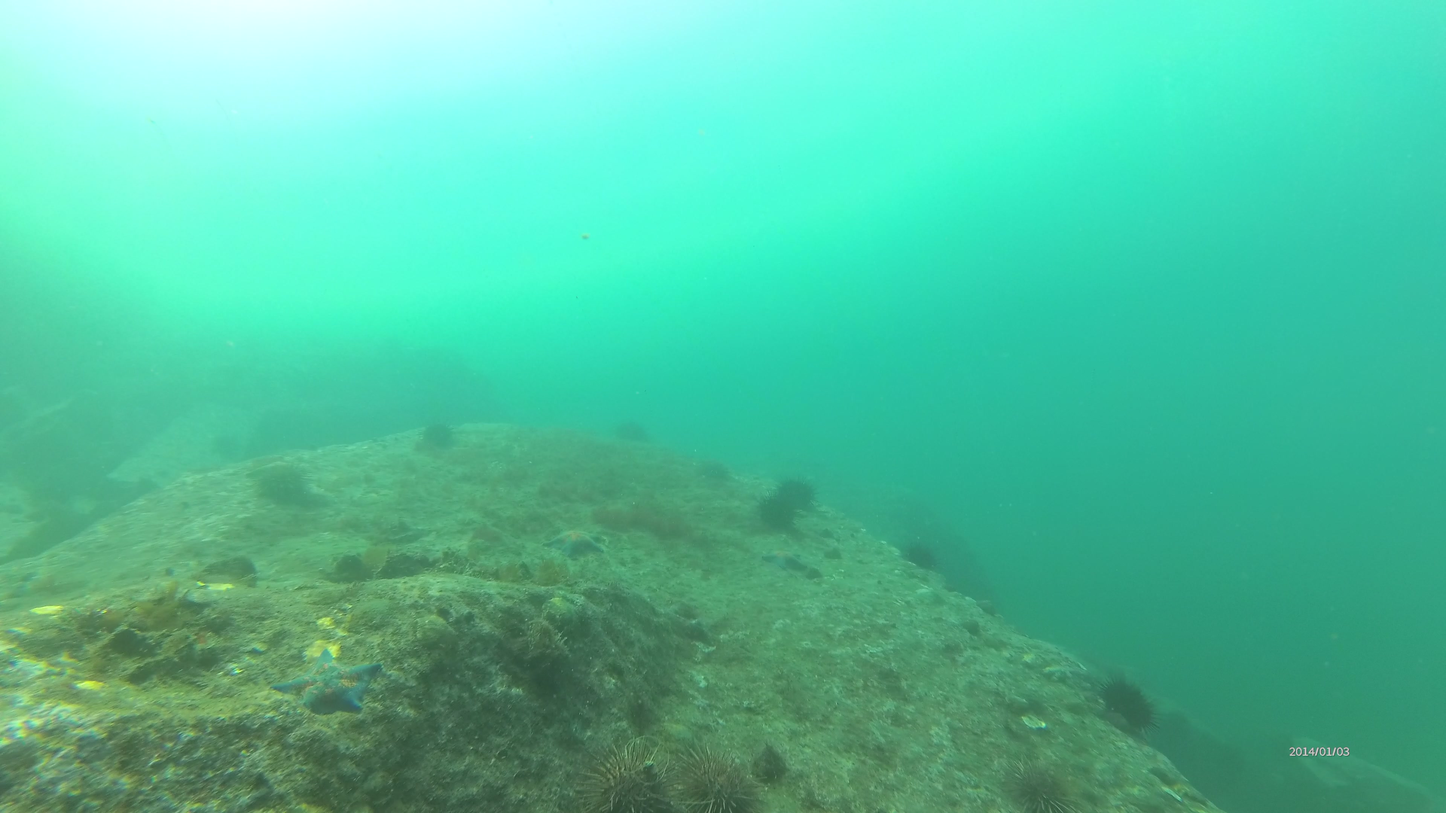holothurian: (265, 652, 383, 716), (545, 527, 601, 559), (763, 542, 806, 577)
starfish: (572, 736, 679, 813), (672, 743, 757, 813), (998, 755, 1075, 813), (1096, 671, 1158, 733), (249, 465, 323, 508), (754, 489, 796, 533), (778, 471, 816, 513), (417, 420, 459, 454), (898, 534, 936, 568), (614, 415, 650, 448), (699, 455, 736, 485)
